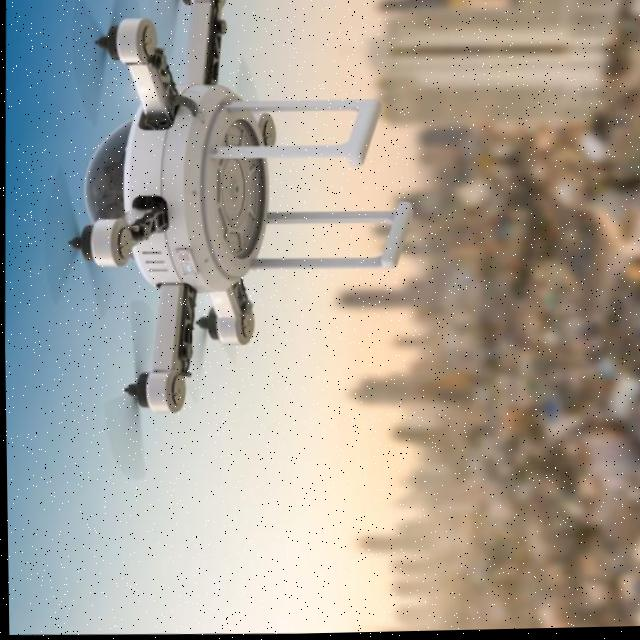drones: (27, 0, 395, 476)
